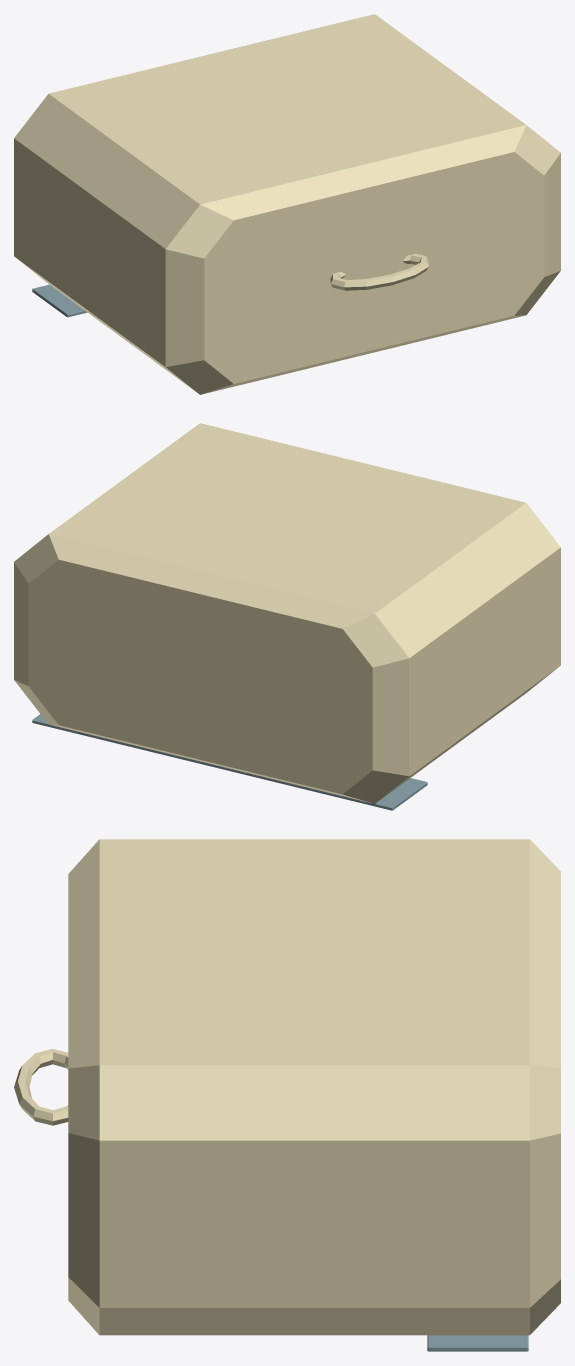
Rendered from diapers.glb.
3 views of the same model, one above another, from view 1: azimuth 30°, elevation 25°; view 2: azimuth 150°, elevation 25°; view 3: azimuth 270°, elevation 25° (orthographic). The views are drawn at different scales.
Visible parts, largest first — view 1: diapers; view 2: diapers; view 3: diapers.
Part boxes in pixels (<box>): diapers: <box>14,14,560,394</box>; diapers: <box>14,423,560,810</box>; diapers: <box>14,839,560,1351</box>.
Size of the model in its own units: 0.25 by 0.1205 by 0.211.
